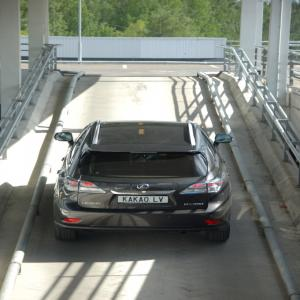Vehicle-registration-plate: (120, 195, 172, 205)
